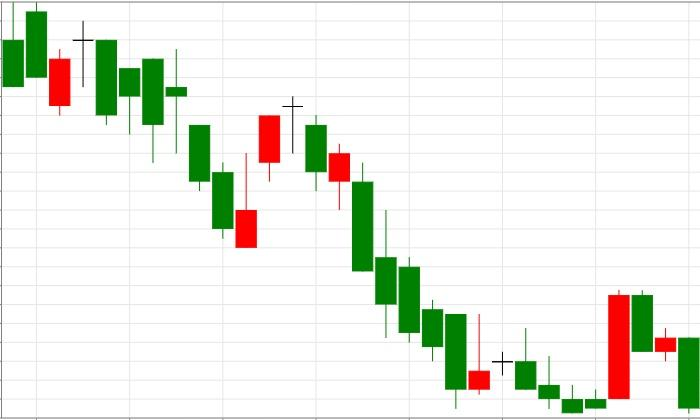inverse_hammer_rise: (282, 96, 491, 409)
